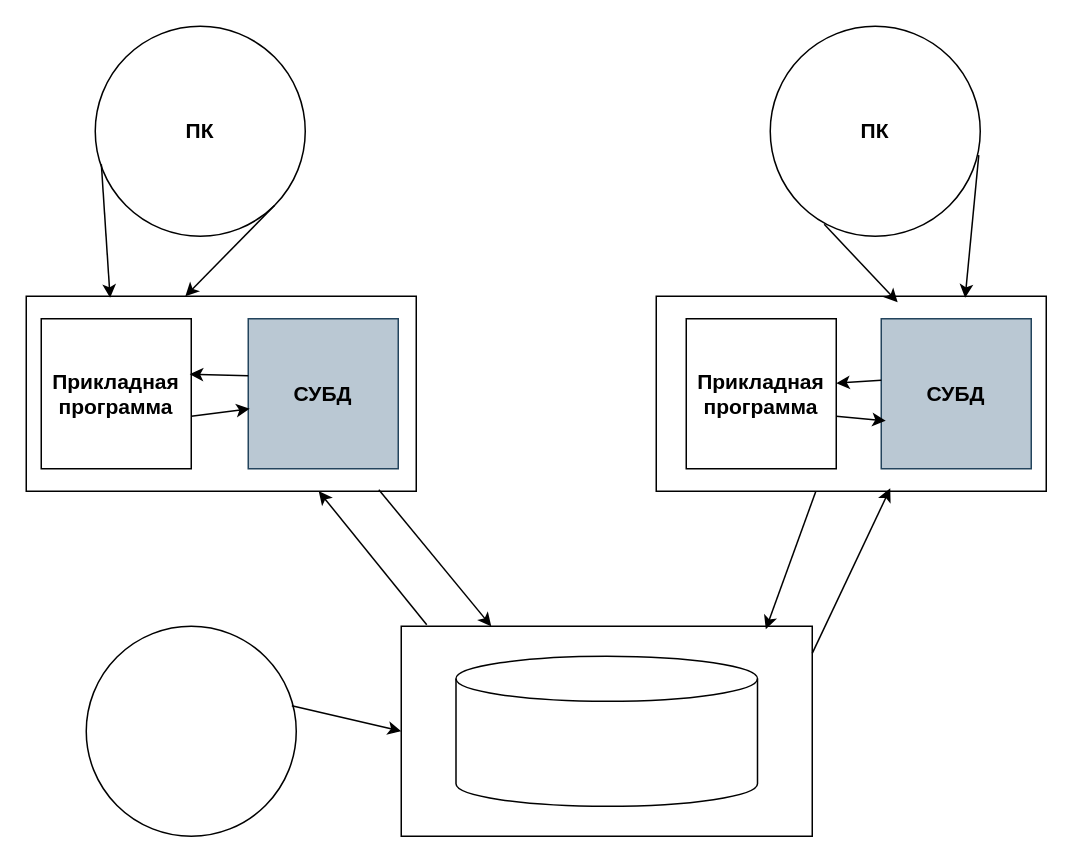
Image size: 1073x863. Some labels were removed from this diagram. Here are the shapes that lost their labels. From the top down, the centre of each, then its label:
At (x=190, y=730): "Файловый сервис".
At (x=606, y=730): "Данные(База данных)".
